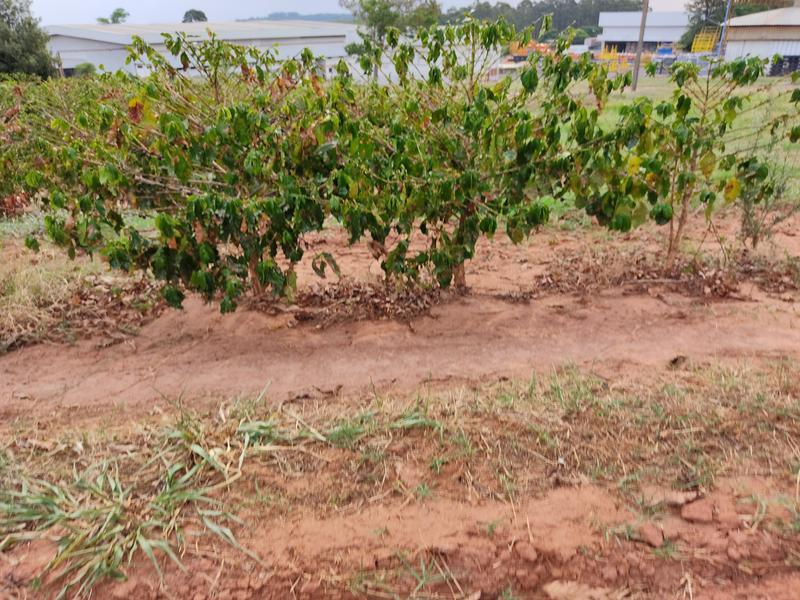coffee: (582, 26, 800, 307), (343, 35, 562, 313), (133, 60, 325, 331)
